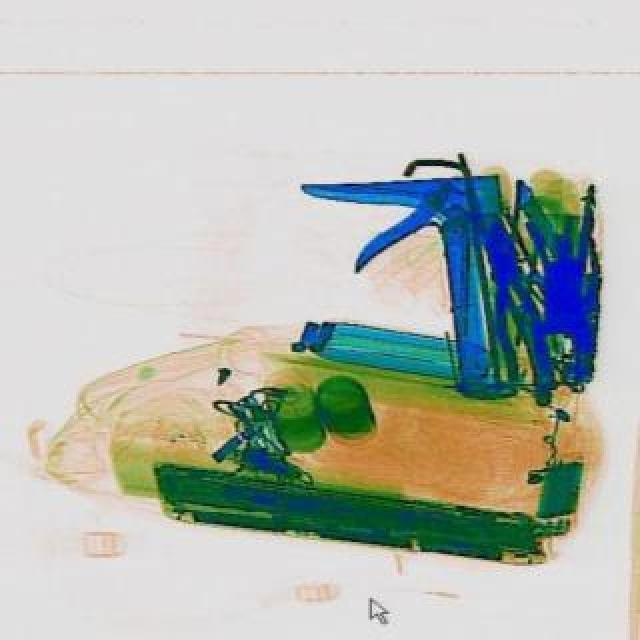knife: (296, 168, 520, 408)
wrench: (468, 214, 554, 386)
